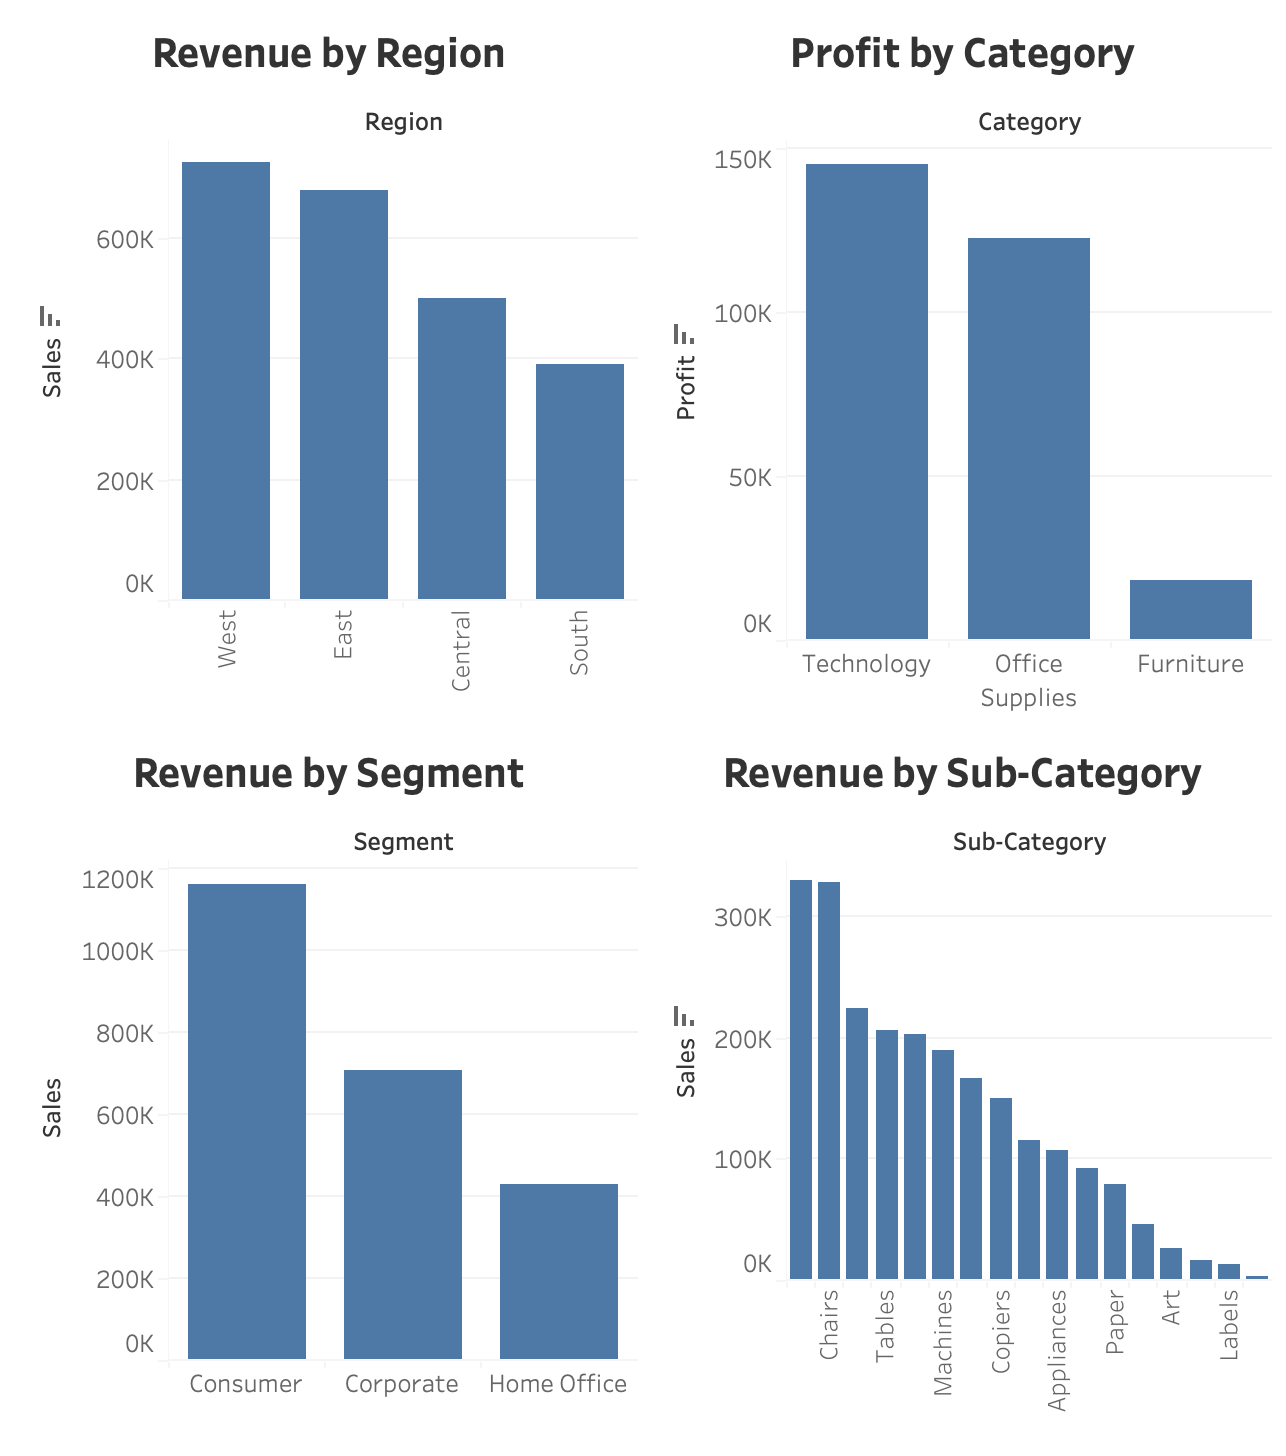

What the dashboard file says about the page in this screenshot:
{"tool":"tableau","page":{"name":"Dashboard 1","canvas":[650,860],"ordinal":0},"visuals":[{"type":"worksheet","title":"Revenue by Region","mark":"Automatic","rows":["Sales"],"cols":["Region"],"box":[8.2,9.6,316.8,420.4]},{"type":"worksheet","title":"Profit by Category","mark":"Automatic","rows":["Profit"],"cols":["Category"],"box":[324.9,9.6,316.9,420.4]},{"type":"worksheet","title":"Revenue by Segment","mark":"Automatic","rows":["Sales"],"cols":["Segment"],"box":[8.2,430,316.8,420.5]},{"type":"worksheet","title":"Revenue by Sub-Category","mark":"Automatic","rows":["Sales"],"cols":["Sub-Category"],"box":[324.9,430,316.9,420.5]}]}

Visuals, with their boxes in screenshot pixels (x1, y1, x2, y2):
"Revenue by Region" worksheet: left=298, top=88, right=808, bottom=765
"Profit by Category" worksheet: left=808, top=88, right=1285, bottom=765
"Revenue by Segment" worksheet: left=298, top=765, right=808, bottom=1442
"Revenue by Sub-Category" worksheet: left=808, top=765, right=1285, bottom=1442
